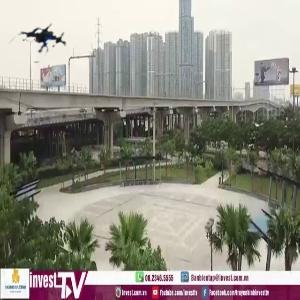drone: (17, 16, 67, 66)
